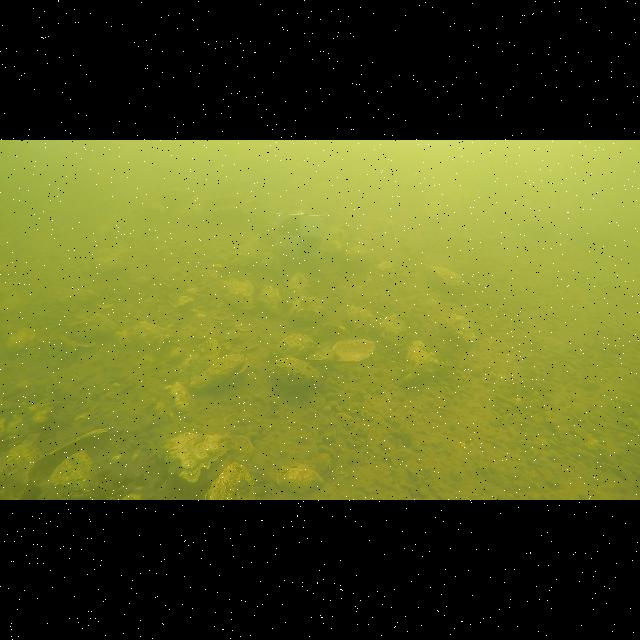Oyster-Closed: (165, 432, 229, 482), (46, 446, 104, 500), (190, 354, 249, 391), (205, 462, 255, 500), (0, 444, 34, 499), (178, 337, 222, 378), (115, 321, 172, 352), (404, 340, 440, 381), (69, 312, 118, 342), (276, 464, 324, 494), (272, 356, 319, 386), (426, 266, 464, 295), (272, 334, 316, 358), (92, 248, 128, 275), (289, 296, 322, 325), (225, 279, 254, 310), (446, 315, 478, 342), (348, 306, 380, 332), (286, 272, 309, 302), (258, 285, 281, 315), (381, 315, 406, 342)
Oyster-Open: (20, 429, 108, 500), (309, 339, 375, 361)
